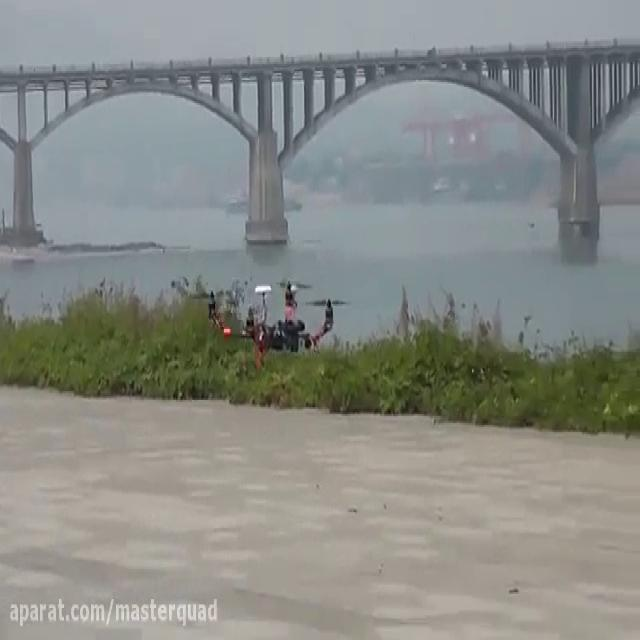drone: (185, 274, 352, 372)
